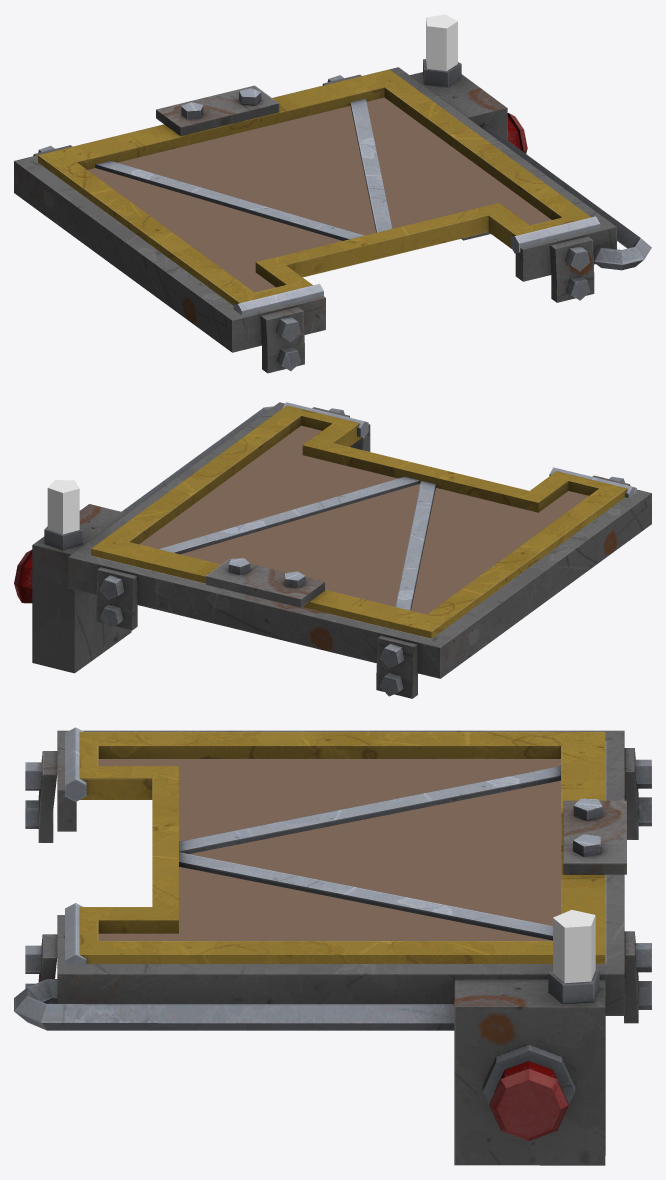
The model's file is Sorter_Lid.glb.
The picture shows the model from 3 angles, top to bottom: view 1: azimuth 30°, elevation 25°; view 2: azimuth 150°, elevation 25°; view 3: azimuth 270°, elevation 25°; orthographic projection. The views are drawn at different scales.
Parts seen in each view (by area): view 1: Sorter_Lid_Hatch, Sorter_Lid, Sorter_Lid_Button; view 2: Sorter_Lid_Hatch, Sorter_Lid, Sorter_Lid_Button; view 3: Sorter_Lid_Hatch, Sorter_Lid, Sorter_Lid_Button.
Boxes of the visible parts, x1=… form: Sorter_Lid_Hatch: x1=38, y1=69, x2=600, y2=315; Sorter_Lid: x1=14, y1=14, x2=651, y2=373; Sorter_Lid_Button: x1=507, y1=113, x2=527, y2=153; Sorter_Lid_Hatch: x1=91, y1=402, x2=636, y2=638; Sorter_Lid: x1=32, y1=402, x2=651, y2=698; Sorter_Lid_Button: x1=14, y1=549, x2=32, y2=603; Sorter_Lid_Hatch: x1=65, y1=727, x2=626, y2=965; Sorter_Lid: x1=14, y1=730, x2=651, y2=1165; Sorter_Lid_Button: x1=489, y1=1061, x2=568, y2=1140.
Bounding box in the file's own units: 0.9527 × 0.3514 × 0.8719.
Materials: 3 (2 with a texture image).
